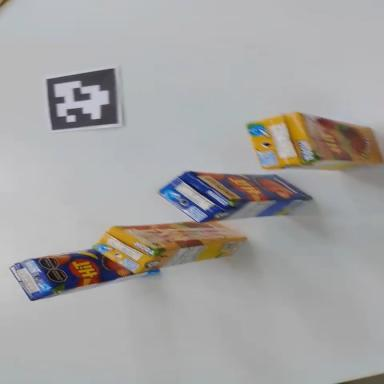HIT-MANGO: (9, 236, 160, 304), (157, 171, 313, 227)
HIT-MORA: (93, 202, 248, 281), (249, 112, 382, 170)
cara_F: (115, 207, 246, 257), (33, 239, 136, 294), (292, 113, 384, 172), (189, 172, 312, 203)
